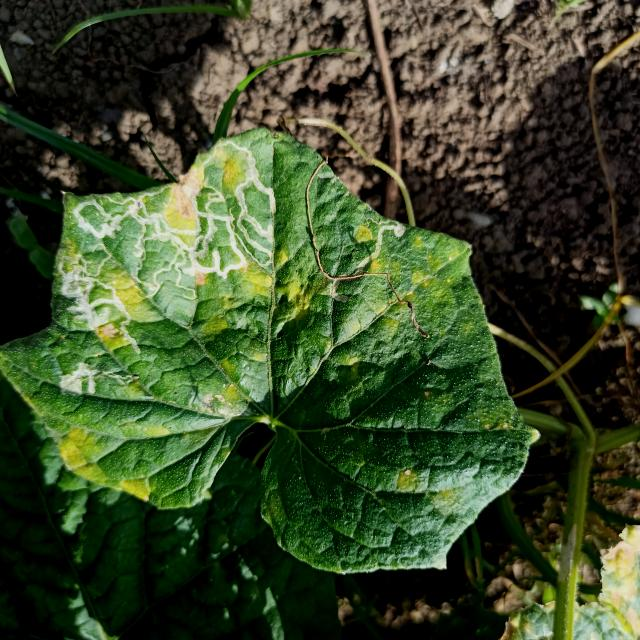disease_cucumber: (57, 153, 280, 412), (280, 218, 434, 382), (53, 412, 174, 504), (393, 464, 465, 519)
